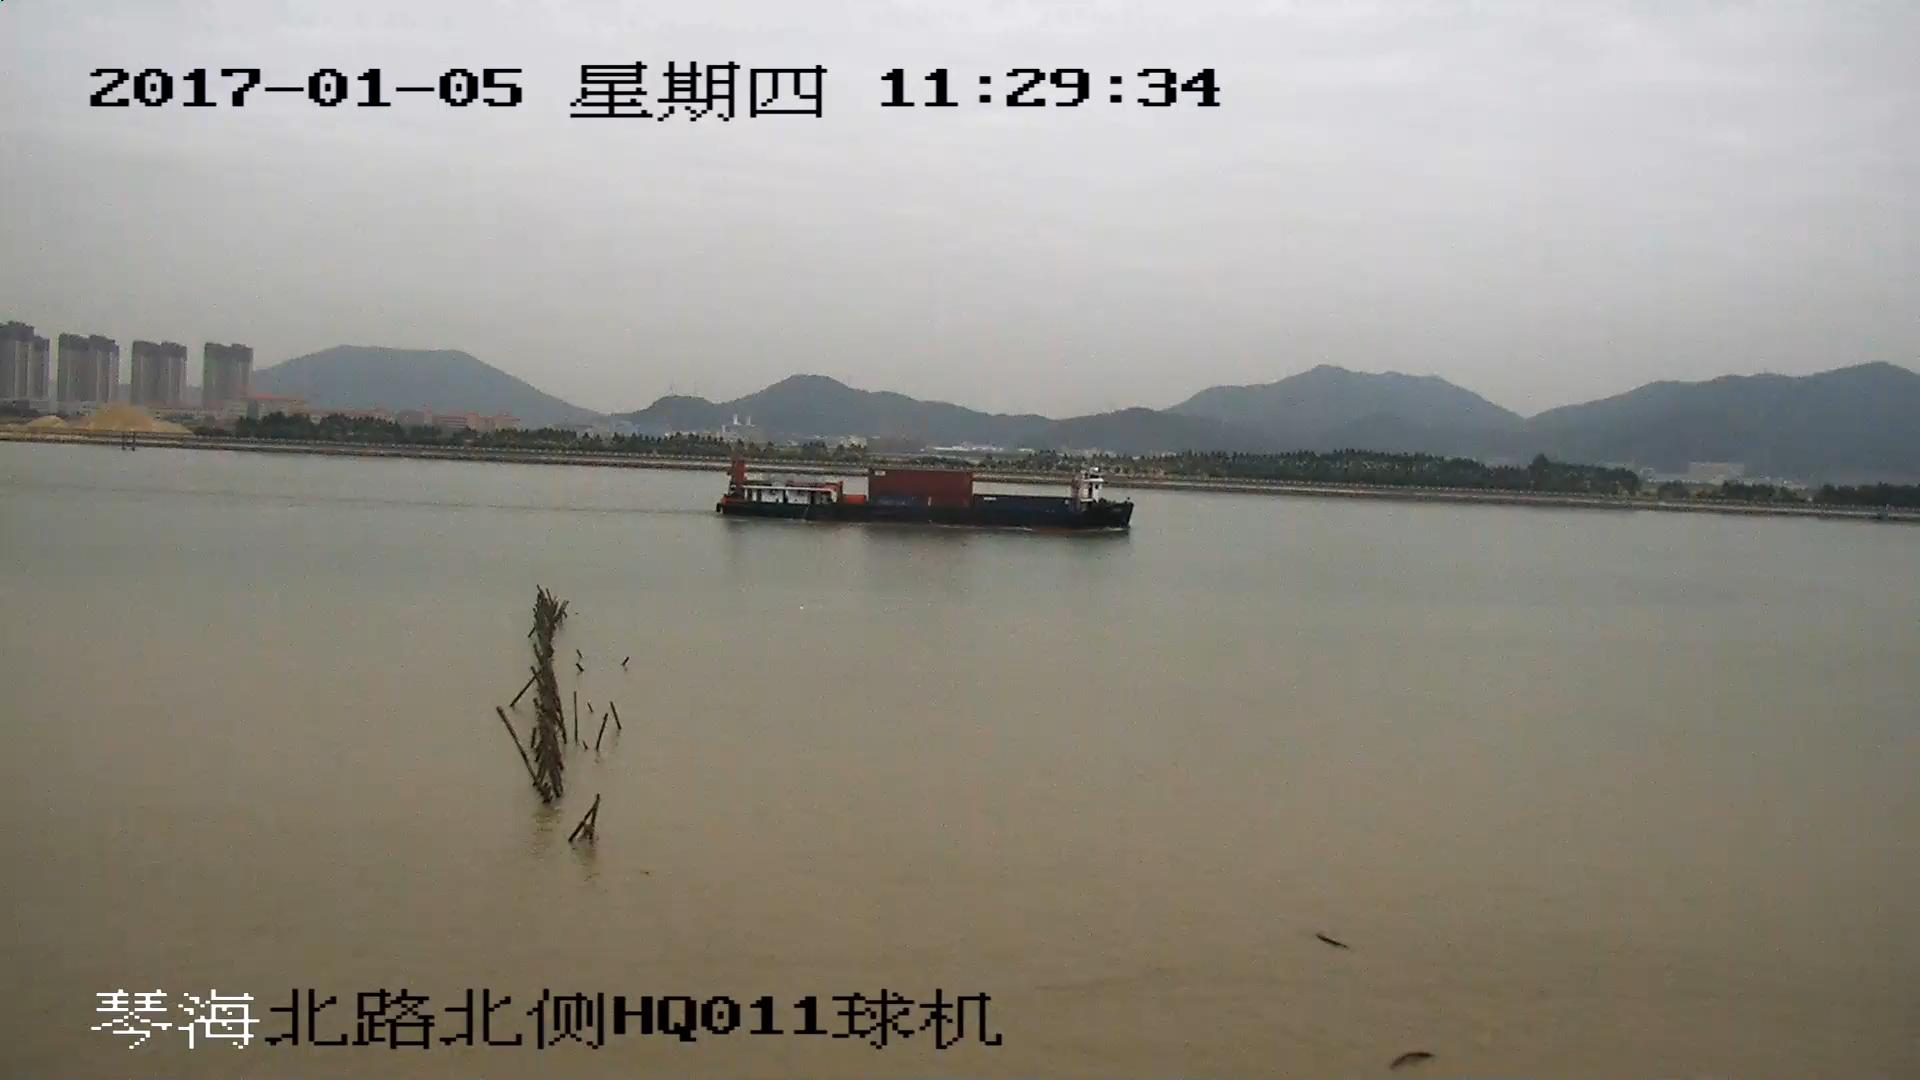container ship: (716, 458, 1132, 527)
